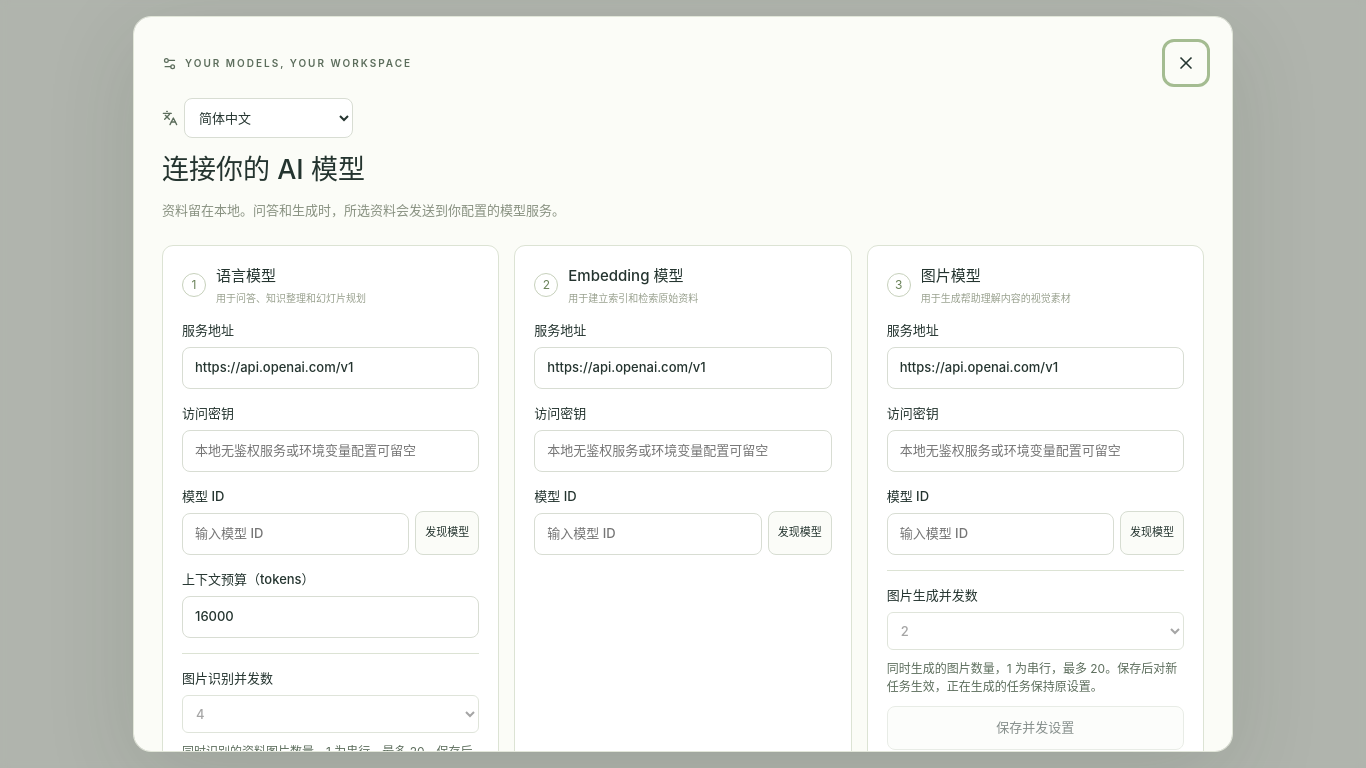
Test: Setup › shows failed capability tests and allows retry
This screenshot has width=1366, height=768.
Type "model" into the field labelled "模型 ID" below "用于问答、知识整理和幻灯片规划" at {"x": 296, "y": 534}, box [182,513,409,554]
(page scrolled)
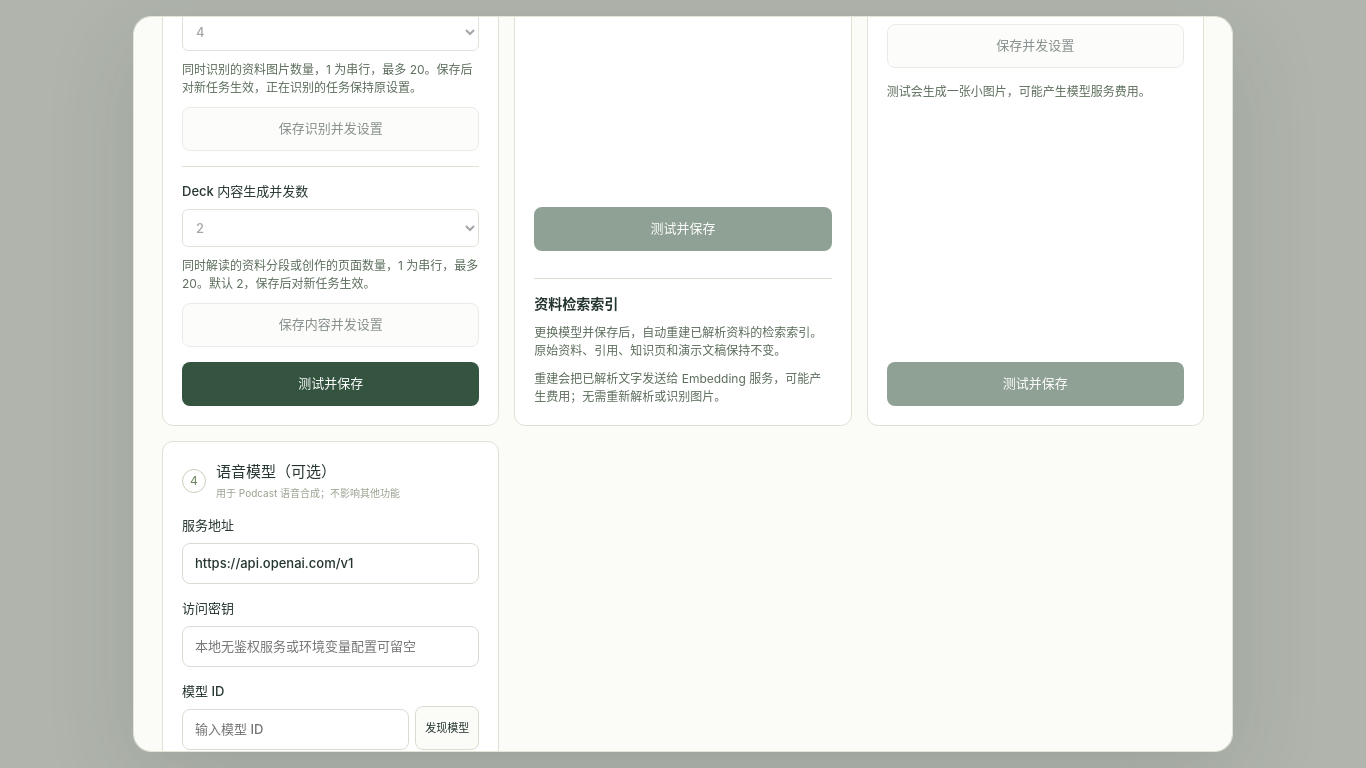
Click the button "测试并保存" below "Deck 内容生成并发数" at {"x": 331, "y": 384}, box [182,362,479,406]
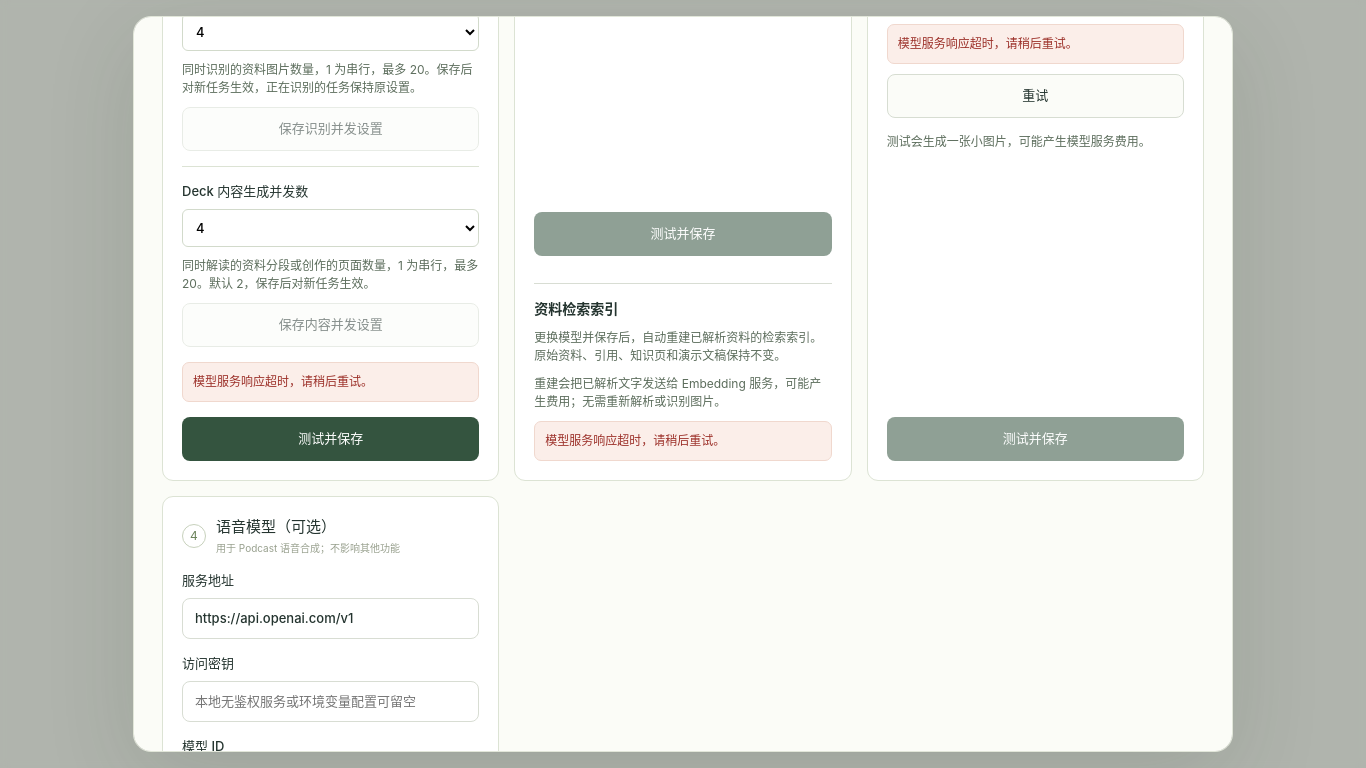
Expected: the button "测试并保存" below "Deck 内容生成并发数" is enabled, [182,416,479,460]
Expected: the message "模型服务响应超时，请稍后重试。" below "Deck 内容生成并发数" is shown, [193,374,373,388]
